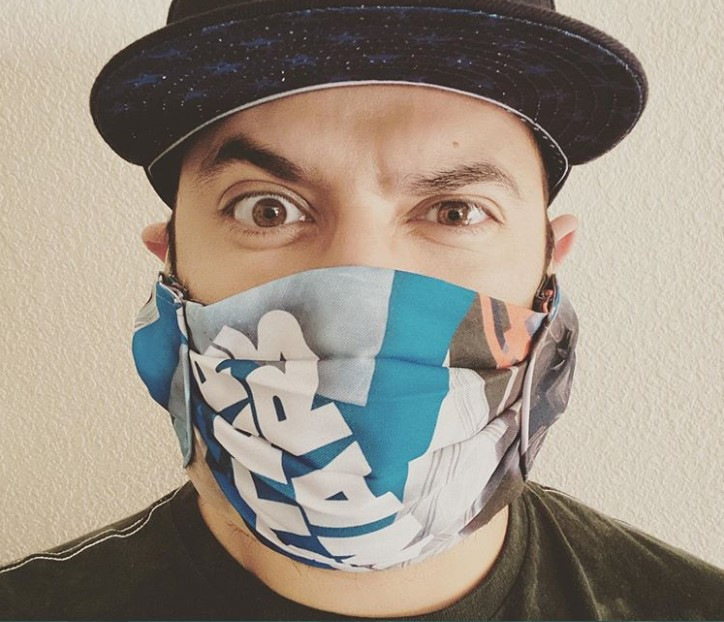face_with_mask: (88, 6, 646, 567)
